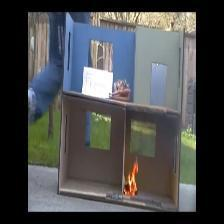fire: (123, 156, 139, 194)
